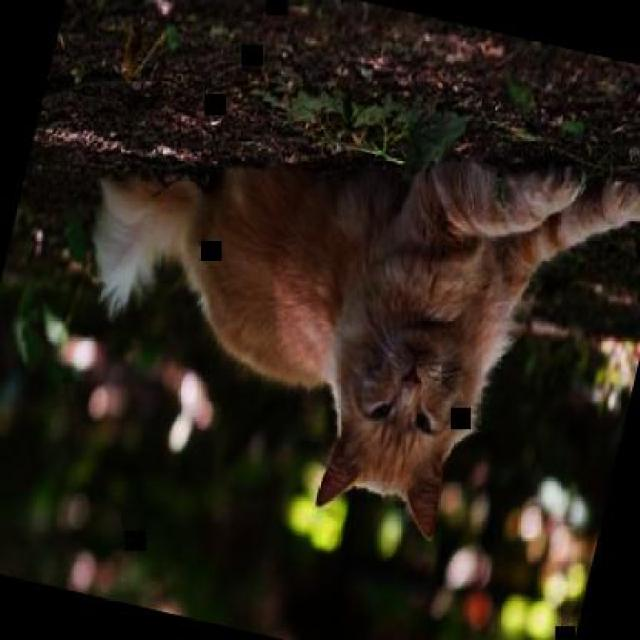cat: (40, 61, 638, 574)
